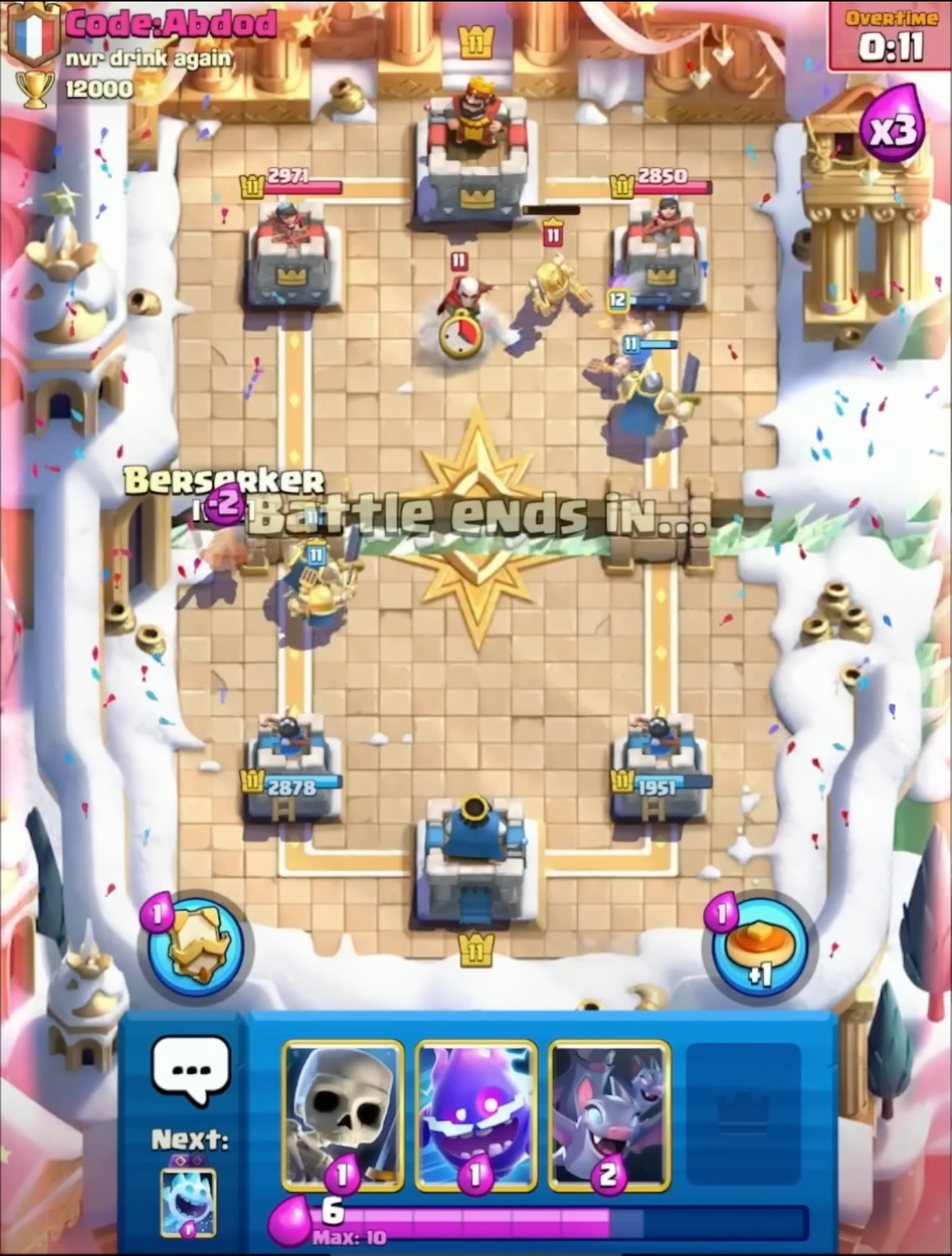hero-mini-pekka: (512, 196, 598, 328)
magic-archer: (433, 243, 501, 368)
